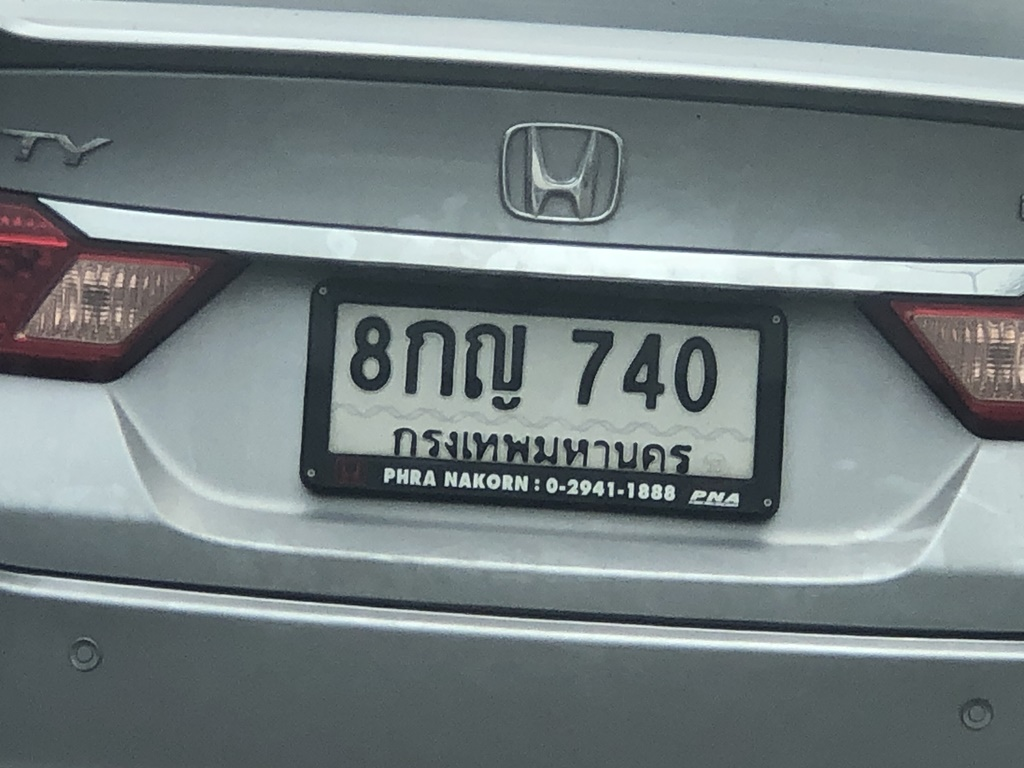zero: (666, 323, 719, 423)
